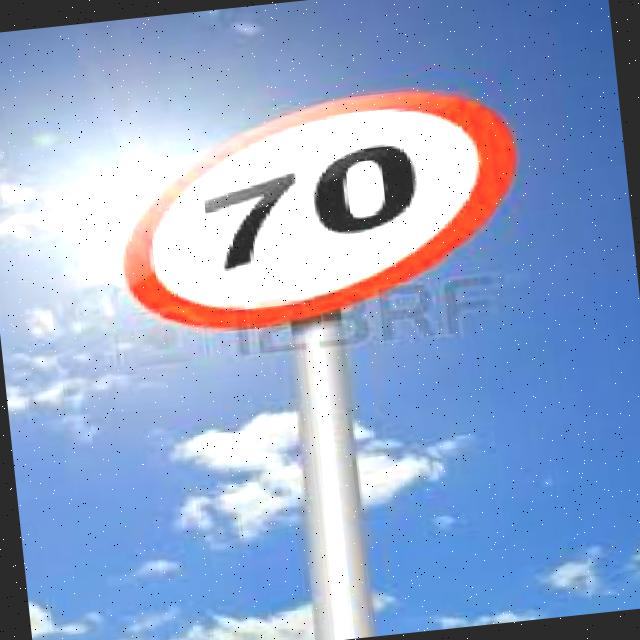Ograniczenie predkosci do 70: (123, 98, 503, 322)
